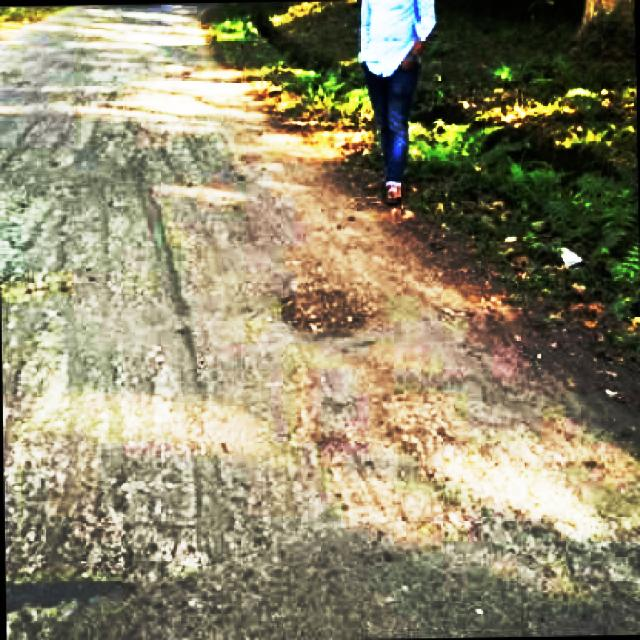pothole: (282, 285, 363, 340)
